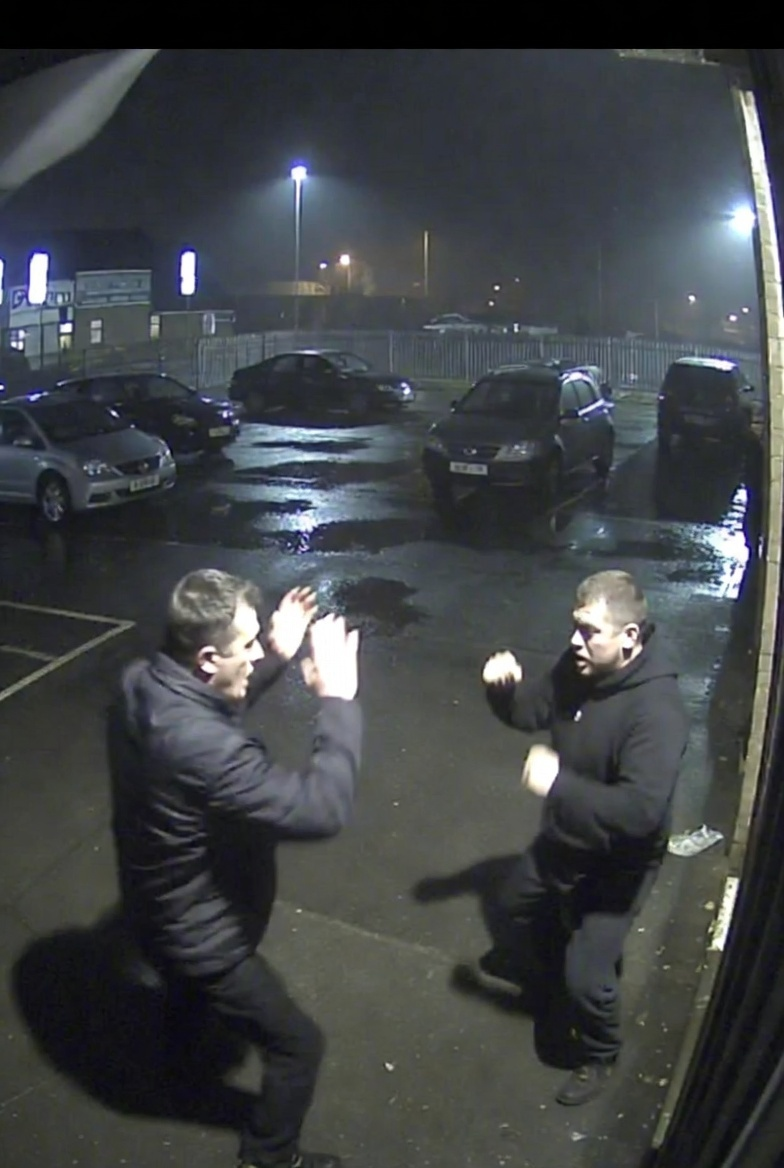Assault: (477, 569, 692, 1109)
Fighting: (104, 570, 367, 1168)
